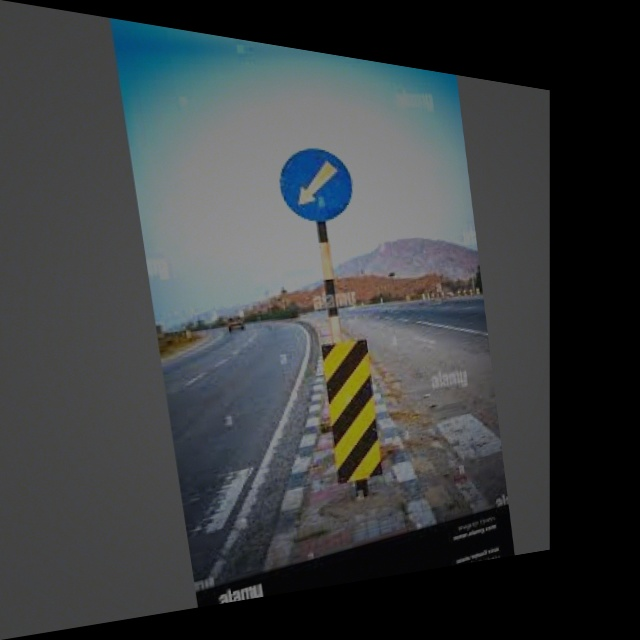Compulsory_Keep_Left: (271, 135, 366, 232)
